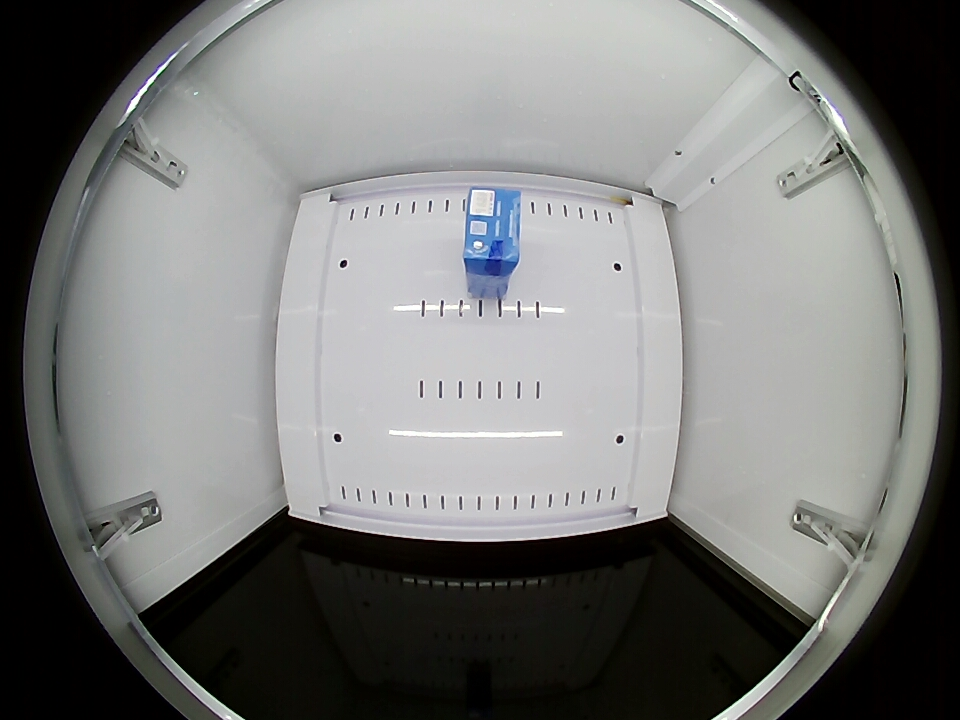weitanai: (463, 189, 521, 280)
